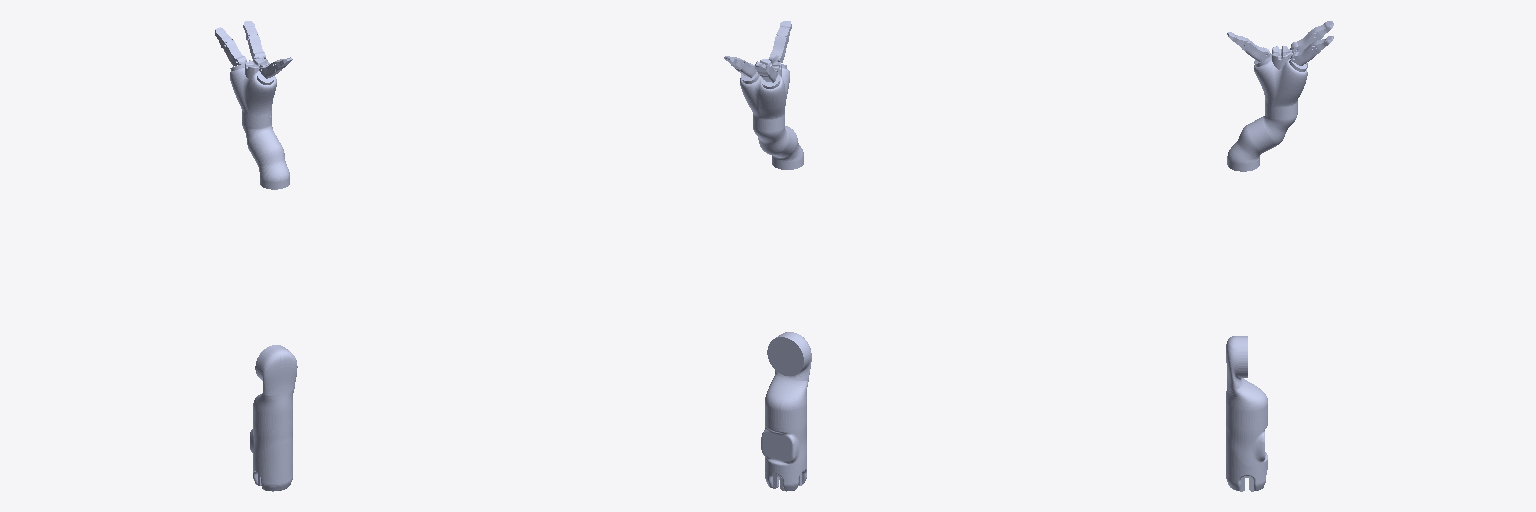
URDF robot description (m1n6s300):
<?xml version="1.0" ?>
<!-- =================================================================================== -->
<!-- |    This document was autogenerated by xacro from m1n6s300_standalone.xacro      | -->
<!-- |    EDITING THIS FILE BY HAND IS NOT RECOMMENDED                                 | -->
<!-- =================================================================================== -->
<!-- m1n6_2 refers to mico v1 6DOF non-spherical 2fingers -->
<robot name="m1n6s300" xmlns:body="http://playerstage.sourceforge.net/gazebo/xmlschema/#body" xmlns:controller="http://playerstage.sourceforge.net/gazebo/xmlschema/#controller" xmlns:gazebo="http://playerstage.sourceforge.net/gazebo/xmlschema/#gz" xmlns:geom="http://playerstage.sourceforge.net/gazebo/xmlschema/#geom" xmlns:interface="http://playerstage.sourceforge.net/gazebo/xmlschema/#interface" xmlns:joint="http://playerstage.sourceforge.net/gazebo/xmlschema/#joint" xmlns:model="http://playerstage.sourceforge.net/gazebo/xmlschema/#model" xmlns:physics="http://playerstage.sourceforge.net/gazebo/xmlschema/#physics" xmlns:renderable="http://playerstage.sourceforge.net/gazebo/xmlschema/#renderable" xmlns:rendering="http://playerstage.sourceforge.net/gazebo/xmlschema/#rendering" xmlns:sensor="http://playerstage.sourceforge.net/gazebo/xmlschema/#sensor" xmlns:xacro="http://ros.org/wiki/xacro" xmlns:xi="http://www.w3.org/2001/XInclude">
  <!-- links      		mesh_no
   base           		0
   shoulder       		1
   arm            		2
   forearm        		3
   wrist          		4
   arm_mico       		5
   arm_half1 (7dof)		6
   arm_half2 (7dof)		7
   wrist_spherical_1  8
   wrist_spherical_2  9

   hand 3 finger  		55
   hand_2finger   		56
   finger_proximal		57
   finger_distal      58 
-->
  <!-- links      		mesh_no
   base           		0
   shoulder       		1
   arm            		2
   forearm        		3
   wrist          		4
   arm_mico       		5
   arm_half1 (7dof)		6
   arm_half2 (7dof)		7
   wrist_spherical_1  8
   wrist_spherical_2  9

   hand 3 finger  		55
   hand_2finger   		56
   finger_proximal		57
   finger_distal      58 
-->
  <link name="root">
    <visual>
      <origin rpy="0 0 0" xyz="0 0 0"/>
      <geometry>
        <box size="0 0 0"/>
      </geometry>
      <!--<material name="Black" /> -->
    </visual>
    <collision>
      <origin rpy="0 0 0" xyz="0 0 0"/>
      <geometry>
        <box size="0 0 0"/>
      </geometry>
    </collision>
  </link>
  <!-- for gazebo -->
  <link name="world"/>
  <joint name="connect_root_and_world" type="fixed">
    <child link="root"/>
    <parent link="world"/>
    <origin rpy="0 0 0" xyz="0 0 0"/>
  </joint>
  <!-- ros_control plugin -->
  <gazebo>
    <plugin filename="libgazebo_ros_control.so" name="gazebo_ros_control">
      <robotNamespace>m1n6s300</robotNamespace>
      <robotSimType>gazebo_ros_control/DefaultRobotHWSim</robotSimType>
    </plugin>
  </gazebo>
  <link name="m1n6s300_link_base">
    <visual>
      <geometry>
        <mesh filename="package://kinova_description/meshes/base.dae"/>
      </geometry>
      <material name="carbon_fiber">
        <color rgba="0.792156862745098 0.819607843137255 0.933333333333333 1"/>
      </material>
    </visual>
    <collision>
      <geometry>
        <mesh filename="package://kinova_description/meshes/base.dae"/>
      </geometry>
    </collision>
    <inertial>
      <mass value="0.46784"/>
      <origin rpy="0 0 0" xyz="0 0 0.1255"/>
      <inertia ixx="0.000951270861568" ixy="0" ixz="0" iyy="0.000951270861568" iyz="0" izz="0.000374272"/>
    </inertial>
  </link>
  <joint name="m1n6s300_joint_base" type="fixed">
    <parent link="root"/>
    <child link="m1n6s300_link_base"/>
    <axis xyz="0 0 0"/>
    <limit effort="2000" lower="0" upper="0" velocity="1"/>
    <origin rpy="0 0 0" xyz="0 0 0"/>
    <dynamics damping="0.0" friction="0.0"/>
  </joint>
  <link name="m1n6s300_link_1">
    <visual>
      <geometry>
        <mesh filename="package://kinova_description/meshes/shoulder.dae"/>
      </geometry>
      <material name="carbon_fiber">
        <color rgba="0.792156862745098 0.819607843137255 0.933333333333333 1"/>
      </material>
    </visual>
    <visual>
      <geometry>
        <mesh filename="package://kinova_description/meshes/ring_big.STL"/>
      </geometry>
    </visual>
    <collision>
      <geometry>
        <mesh filename="package://kinova_description/meshes/shoulder.dae"/>
      </geometry>
    </collision>
    <inertial>
      <mass value="0.7477"/>
      <origin xyz="0 -0.002 -0.0605"/>
      <inertia ixx="0.00152031725204" ixy="0" ixz="0" iyy="0.00152031725204" iyz="0" izz="0.00059816"/>
    </inertial>
  </link>
  <joint name="m1n6s300_joint_1" type="continuous">
    <parent link="m1n6s300_link_base"/>
    <child link="m1n6s300_link_1"/>
    <axis xyz="0 0 1"/>
    <limit effort="2000" lower="-6.28318530718" upper="6.28318530718" velocity="1"/>
    <origin rpy="0 3.14159265359 0" xyz="0 0 0.15675"/>
    <dynamics damping="0.0" friction="0.0"/>
  </joint>
  <transmission name="m1n6s300_joint_1_trans">
    <type>transmission_interface/SimpleTransmission</type>
    <joint name="m1n6s300_joint_1">
      <hardwareInterface>EffortJointInterface</hardwareInterface>
    </joint>
    <actuator name="m1n6s300_joint_1_actuator">
      <hardwareInterface>EffortJointInterface</hardwareInterface>
      <mechanicalReduction>160</mechanicalReduction>
    </actuator>
  </transmission>
  <link name="m1n6s300_link_2">
    <visual>
      <geometry>
        <mesh filename="package://kinova_description/meshes/arm_mico.dae"/>
      </geometry>
      <material name="carbon_fiber">
        <color rgba="0.792156862745098 0.819607843137255 0.933333333333333 1"/>
      </material>
    </visual>
    <visual>
      <geometry>
        <mesh filename="package://kinova_description/meshes/ring_big.STL"/>
      </geometry>
    </visual>
    <collision>
      <geometry>
        <mesh filename="package://kinova_description/meshes/arm_mico.dae"/>
      </geometry>
    </collision>
    <inertial>
      <mass value="0.85968"/>
      <origin xyz="0 -0.145  -0.0076"/>
      <inertia ixx="0.00467090931629" ixy="0" ixz="0" iyy="0.000386856" iyz="0" izz="0.00467090931629"/>
    </inertial>
  </link>
  <joint name="m1n6s300_joint_2" type="revolute">
    <parent link="m1n6s300_link_1"/>
    <child link="m1n6s300_link_2"/>
    <axis xyz="0 0 1"/>
    <limit effort="2000" lower="0.872664625997" upper="5.41052068118" velocity="1"/>
    <origin rpy="-1.57079632679 0 3.14159265359" xyz="0 0.0016 -0.11875"/>
    <dynamics damping="0.0" friction="0.0"/>
  </joint>
  <transmission name="m1n6s300_joint_2_trans">
    <type>transmission_interface/SimpleTransmission</type>
    <joint name="m1n6s300_joint_2">
      <hardwareInterface>EffortJointInterface</hardwareInterface>
    </joint>
    <actuator name="m1n6s300_joint_2_actuator">
      <hardwareInterface>EffortJointInterface</hardwareInterface>
      <mechanicalReduction>160</mechanicalReduction>
    </actuator>
  </transmission>
  <link name="m1n6s300_link_3">
    <visual>
      <geometry>
        <mesh filename="package://kinova_description/meshes/forearm_mico.dae"/>
      </geometry>
      <material name="carbon_fiber">
        <color rgba="0.792156862745098 0.819607843137255 0.933333333333333 1"/>
      </material>
    </visual>
    <visual>
      <geometry>
        <mesh filename="package://kinova_description/meshes/ring_big.STL"/>
      </geometry>
    </visual>
    <collision>
      <geometry>
        <mesh filename="package://kinova_description/meshes/forearm_mico.dae"/>
      </geometry>
    </collision>
    <inertial>
      <mass value="0.606"/>
      <origin xyz="0 0.0463 -0.0065"/>
      <inertia ixx="0.0003837984648" ixy="0" ixz="0" iyy="0.0001212" iyz="0" izz="0.0003837984648"/>
    </inertial>
  </link>
  <joint name="m1n6s300_joint_3" type="revolute">
    <parent link="m1n6s300_link_2"/>
    <child link="m1n6s300_link_3"/>
    <axis xyz="0 0 1"/>
    <limit effort="2000" lower="0.610865238198" upper="5.67232006898" velocity="1"/>
    <origin rpy="0 3.14159265359 0" xyz="0 -0.290 0"/>
    <dynamics damping="0.0" friction="0.0"/>
  </joint>
  <transmission name="m1n6s300_joint_3_trans">
    <type>transmission_interface/SimpleTransmission</type>
    <joint name="m1n6s300_joint_3">
      <hardwareInterface>EffortJointInterface</hardwareInterface>
    </joint>
    <actuator name="m1n6s300_joint_3_actuator">
      <hardwareInterface>EffortJointInterface</hardwareInterface>
      <mechanicalReduction>160</mechanicalReduction>
    </actuator>
  </transmission>
  <link name="m1n6s300_link_4">
    <visual>
      <geometry>
        <mesh filename="package://kinova_description/meshes/wrist.dae"/>
      </geometry>
      <material name="carbon_fiber">
        <color rgba="0.792156862745098 0.819607843137255 0.933333333333333 1"/>
      </material>
    </visual>
    <visual>
      <geometry>
        <mesh filename="package://kinova_description/meshes/ring_small.STL"/>
      </geometry>
    </visual>
    <collision>
      <geometry>
        <mesh filename="package://kinova_description/meshes/wrist.dae"/>
      </geometry>
    </collision>
    <inertial>
      <mass value="0.426367"/>
      <origin xyz="0 -0.037 -0.0642"/>
      <inertia ixx="7.73496906e-05" ixy="0" ixz="0" iyy="7.73496906e-05" iyz="0" izz="0.0001428"/>
    </inertial>
  </link>
  <joint name="m1n6s300_joint_4" type="continuous">
    <parent link="m1n6s300_link_3"/>
    <child link="m1n6s300_link_4"/>
    <axis xyz="0 0 1"/>
    <limit effort="2000" lower="-6.28318530718" upper="6.28318530718" velocity="1"/>
    <origin rpy="-1.57079632679 0 3.14159265359" xyz="0 0.1231 -0.0086"/>
    <dynamics damping="0.0" friction="0.0"/>
  </joint>
  <transmission name="m1n6s300_joint_4_trans">
    <type>transmission_interface/SimpleTransmission</type>
    <joint name="m1n6s300_joint_4">
      <hardwareInterface>EffortJointInterface</hardwareInterface>
    </joint>
    <actuator name="m1n6s300_joint_4_actuator">
      <hardwareInterface>EffortJointInterface</hardwareInterface>
      <mechanicalReduction>160</mechanicalReduction>
    </actuator>
  </transmission>
  <link name="m1n6s300_link_5">
    <visual>
      <geometry>
        <mesh filename="package://kinova_description/meshes/wrist.dae"/>
      </geometry>
      <material name="carbon_fiber">
        <color rgba="0.792156862745098 0.819607843137255 0.933333333333333 1"/>
      </material>
    </visual>
    <visual>
      <geometry>
        <mesh filename="package://kinova_description/meshes/ring_small.STL"/>
      </geometry>
    </visual>
    <collision>
      <geometry>
        <mesh filename="package://kinova_description/meshes/wrist.dae"/>
      </geometry>
    </collision>
    <inertial>
      <mass value="0.426367"/>
      <origin xyz="0 -0.037 -0.0642"/>
      <inertia ixx="7.73496906e-05" ixy="0" ixz="0" iyy="7.73496906e-05" iyz="0" izz="0.0001428"/>
    </inertial>
  </link>
  <joint name="m1n6s300_joint_5" type="continuous">
    <parent link="m1n6s300_link_4"/>
    <child link="m1n6s300_link_5"/>
    <axis xyz="0 0 1"/>
    <limit effort="2000" lower="-6.28318530718" upper="6.28318530718" velocity="1"/>
    <origin rpy="1.0471975512 0 3.14159265359" xyz="0 -0.03703 -0.06414"/>
    <dynamics damping="0.0" friction="0.0"/>
  </joint>
  <transmission name="m1n6s300_joint_5_trans">
    <type>transmission_interface/SimpleTransmission</type>
    <joint name="m1n6s300_joint_5">
      <hardwareInterface>EffortJointInterface</hardwareInterface>
    </joint>
    <actuator name="m1n6s300_joint_5_actuator">
      <hardwareInterface>EffortJointInterface</hardwareInterface>
      <mechanicalReduction>160</mechanicalReduction>
    </actuator>
  </transmission>
  <link name="m1n6s300_link_6">
    <visual>
      <geometry>
        <mesh filename="package://kinova_description/meshes/hand_3finger.dae"/>
      </geometry>
      <material name="carbon_fiber">
        <color rgba="0.792156862745098 0.819607843137255 0.933333333333333 1"/>
      </material>
    </visual>
    <visual>
      <geometry>
        <mesh filename="package://kinova_description/meshes/ring_small.STL"/>
      </geometry>
    </visual>
    <collision>
      <geometry>
        <mesh filename="package://kinova_description/meshes/hand_3finger.dae"/>
      </geometry>
    </collision>
    <inertial>
      <mass value="0.99"/>
      <origin xyz="0 0 -0.06"/>
      <inertia ixx="0.0003453236187" ixy="0" ixz="0" iyy="0.0003453236187" iyz="0" izz="0.0005816"/>
    </inertial>
  </link>
  <joint name="m1n6s300_joint_6" type="continuous">
    <parent link="m1n6s300_link_5"/>
    <child link="m1n6s300_link_6"/>
    <axis xyz="0 0 1"/>
    <limit effort="2000" lower="-6.28318530718" upper="6.28318530718" velocity="1"/>
    <origin rpy="1.0471975512 0 3.14159265359" xyz="0 -0.03703 -0.06414"/>
    <dynamics damping="0.0" friction="0.0"/>
  </joint>
  <transmission name="m1n6s300_joint_6_trans">
    <type>transmission_interface/SimpleTransmission</type>
    <joint name="m1n6s300_joint_6">
      <hardwareInterface>EffortJointInterface</hardwareInterface>
    </joint>
    <actuator name="m1n6s300_joint_6_actuator">
      <hardwareInterface>EffortJointInterface</hardwareInterface>
      <mechanicalReduction>160</mechanicalReduction>
    </actuator>
  </transmission>
  <link name="m1n6s300_end_effector">
    <visual>
      <geometry>
        <box size="0 0 0"/>
      </geometry>
    </visual>
    <collision>
      <geometry>
        <box size="0 0 0"/>
      </geometry>
    </collision>
  </link>
  <joint name="m1n6s300_joint_end_effector" type="fixed">
    <parent link="m1n6s300_link_6"/>
    <child link="m1n6s300_end_effector"/>
    <axis xyz="0 0 0"/>
    <limit effort="2000" lower="0" upper="0" velocity="1"/>
    <origin rpy="3.14159265359 0 1.57079632679" xyz="0 0 -0.1600"/>
  </joint>
  <link name="m1n6s300_link_finger_1">
    <visual>
      <geometry>
        <mesh filename="package://kinova_description/meshes/finger_proximal.dae"/>
      </geometry>
      <material name="carbon_fiber">
        <color rgba="0.792156862745098 0.819607843137255 0.933333333333333 1"/>
      </material>
    </visual>
    <collision>
      <geometry>
        <mesh filename="package://kinova_description/meshes/finger_proximal.dae"/>
      </geometry>
    </collision>
    <inertial>
      <mass value="0.01"/>
      <origin xyz="0.022 0 0"/>
      <inertia ixx="7.8999684e-07" ixy="0" ixz="0" iyy="7.8999684e-07" iyz="0" izz="8e-08"/>
    </inertial>
  </link>
  <joint name="m1n6s300_joint_finger_1" type="revolute">
    <parent link="m1n6s300_link_6"/>
    <child link="m1n6s300_link_finger_1"/>
    <axis xyz="0 0 1"/>
    <origin rpy="-1.570796327 .649262481663582 1.35961148639407" xyz="0.00279 0.03126 -0.11467"/>
    <limit effort="2000" lower="0" upper="2" velocity="1"/>
  </joint>
  <transmission name="m1n6s300_joint_finger_1_trans">
    <type>transmission_interface/SimpleTransmission</type>
    <joint name="m1n6s300_joint_finger_1">
      <hardwareInterface>EffortJointInterface</hardwareInterface>
    </joint>
    <actuator name="m1n6s300_joint_finger_1_actuator">
      <hardwareInterface>EffortJointInterface</hardwareInterface>
      <mechanicalReduction>1</mechanicalReduction>
    </actuator>
  </transmission>
  <link name="m1n6s300_link_finger_tip_1">
    <visual>
      <geometry>
        <mesh filename="package://kinova_description/meshes/finger_distal.dae"/>
      </geometry>
      <material name="carbon_fiber">
        <color rgba="0.792156862745098 0.819607843137255 0.933333333333333 1"/>
      </material>
    </visual>
    <collision>
      <geometry>
        <mesh filename="package://kinova_description/meshes/finger_distal.dae"/>
      </geometry>
    </collision>
    <inertial>
      <mass value="0.01"/>
      <origin xyz="0.022 0 0"/>
      <inertia ixx="7.8999684e-07" ixy="0" ixz="0" iyy="7.8999684e-07" iyz="0" izz="8e-08"/>
    </inertial>
  </link>
  <joint name="m1n6s300_joint_finger_tip_1" type="fixed">
    <parent link="m1n6s300_link_finger_1"/>
    <child link="m1n6s300_link_finger_tip_1"/>
    <axis xyz="0 0 1"/>
    <origin rpy="0 0 0" xyz="0.044 -0.003 0"/>
    <limit effort="2000" lower="0" upper="2" velocity="1"/>
  </joint>
  <link name="m1n6s300_link_finger_2">
    <visual>
      <geometry>
        <mesh filename="package://kinova_description/meshes/finger_proximal.dae"/>
      </geometry>
      <material name="carbon_fiber">
        <color rgba="0.792156862745098 0.819607843137255 0.933333333333333 1"/>
      </material>
    </visual>
    <collision>
      <geometry>
        <mesh filename="package://kinova_description/meshes/finger_proximal.dae"/>
      </geometry>
    </collision>
    <inertial>
      <mass value="0.01"/>
      <origin xyz="0.022 0 0"/>
      <inertia ixx="7.8999684e-07" ixy="0" ixz="0" iyy="7.8999684e-07" iyz="0" izz="8e-08"/>
    </inertial>
  </link>
  <joint name="m1n6s300_joint_finger_2" type="revolute">
    <parent link="m1n6s300_link_6"/>
    <child link="m1n6s300_link_finger_2"/>
    <axis xyz="0 0 1"/>
    <origin rpy="-1.570796327 .649262481663582 -1.38614049188413" xyz="0.02226 -0.02707 -0.11482"/>
    <limit effort="2000" lower="0" upper="2" velocity="1"/>
  </joint>
  <transmission name="m1n6s300_joint_finger_2_trans">
    <type>transmission_interface/SimpleTransmission</type>
    <joint name="m1n6s300_joint_finger_2">
      <hardwareInterface>EffortJointInterface</hardwareInterface>
    </joint>
    <actuator name="m1n6s300_joint_finger_2_actuator">
      <hardwareInterface>EffortJointInterface</hardwareInterface>
      <mechanicalReduction>1</mechanicalReduction>
    </actuator>
  </transmission>
  <link name="m1n6s300_link_finger_tip_2">
    <visual>
      <geometry>
        <mesh filename="package://kinova_description/meshes/finger_distal.dae"/>
      </geometry>
      <material name="carbon_fiber">
        <color rgba="0.792156862745098 0.819607843137255 0.933333333333333 1"/>
      </material>
    </visual>
    <collision>
      <geometry>
        <mesh filename="package://kinova_description/meshes/finger_distal.dae"/>
      </geometry>
    </collision>
    <inertial>
      <mass value="0.01"/>
      <origin xyz="0.022 0 0"/>
      <inertia ixx="7.8999684e-07" ixy="0" ixz="0" iyy="7.8999684e-07" iyz="0" izz="8e-08"/>
    </inertial>
  </link>
  <joint name="m1n6s300_joint_finger_tip_2" type="fixed">
    <parent link="m1n6s300_link_finger_2"/>
    <child link="m1n6s300_link_finger_tip_2"/>
    <axis xyz="0 0 1"/>
    <origin rpy="0 0 0" xyz="0.044 -0.003 0"/>
    <limit effort="2000" lower="0" upper="2" velocity="1"/>
  </joint>
  <link name="m1n6s300_link_finger_3">
    <visual>
      <geometry>
        <mesh filename="package://kinova_description/meshes/finger_proximal.dae"/>
      </geometry>
      <material name="carbon_fiber">
        <color rgba="0.792156862745098 0.819607843137255 0.933333333333333 1"/>
      </material>
    </visual>
    <collision>
      <geometry>
        <mesh filename="package://kinova_description/meshes/finger_proximal.dae"/>
      </geometry>
    </collision>
    <inertial>
      <mass value="0.01"/>
      <origin xyz="0.022 0 0"/>
      <inertia ixx="7.8999684e-07" ixy="0" ixz="0" iyy="7.8999684e-07" iyz="0" izz="8e-08"/>
    </inertial>
  </link>
  <joint name="m1n6s300_joint_finger_3" type="revolute">
    <parent link="m1n6s300_link_6"/>
    <child link="m1n6s300_link_finger_3"/>
    <axis xyz="0 0 1"/>
    <origin rpy="-1.570796327 .649262481663582 -1.75545216211587" xyz="-0.02226 -0.02707 -0.11482"/>
    <limit effort="2000" lower="0" upper="2" velocity="1"/>
  </joint>
  <transmission name="m1n6s300_joint_finger_3_trans">
    <type>transmission_interface/SimpleTransmission</type>
    <joint name="m1n6s300_joint_finger_3">
      <hardwareInterface>EffortJointInterface</hardwareInterface>
    </joint>
    <actuator name="m1n6s300_joint_finger_3_actuator">
      <hardwareInterface>EffortJointInterface</hardwareInterface>
      <mechanicalReduction>1</mechanicalReduction>
    </actuator>
  </transmission>
  <link name="m1n6s300_link_finger_tip_3">
    <visual>
      <geometry>
        <mesh filename="package://kinova_description/meshes/finger_distal.dae"/>
      </geometry>
      <material name="carbon_fiber">
        <color rgba="0.792156862745098 0.819607843137255 0.933333333333333 1"/>
      </material>
    </visual>
    <collision>
      <geometry>
        <mesh filename="package://kinova_description/meshes/finger_distal.dae"/>
      </geometry>
    </collision>
    <inertial>
      <mass value="0.01"/>
      <origin xyz="0.022 0 0"/>
      <inertia ixx="7.8999684e-07" ixy="0" ixz="0" iyy="7.8999684e-07" iyz="0" izz="8e-08"/>
    </inertial>
  </link>
  <joint name="m1n6s300_joint_finger_tip_3" type="fixed">
    <parent link="m1n6s300_link_finger_3"/>
    <child link="m1n6s300_link_finger_tip_3"/>
    <axis xyz="0 0 1"/>
    <origin rpy="0 0 0" xyz="0.044 -0.003 0"/>
    <limit effort="2000" lower="0" upper="2" velocity="1"/>
  </joint>
</robot>

--- Render facts (derived) ---
3 views of the same robot in one strip: view 1: azimuth 30°, elevation 25°; view 2: azimuth 150°, elevation 25°; view 3: azimuth 270°, elevation 25° (orthographic).
Model m1n6s300 with 16 links and 15 joints (5 revolute, 4 continuous, 6 fixed), rooted at world, posed joints at zero except 2 at the middle of their limits (m1n6s300_joint_2 = 3.14, m1n6s300_joint_3 = 3.14).
Links seen in each view (by area): view 1: m1n6s300_link_1, m1n6s300_link_base, m1n6s300_link_6, m1n6s300_link_4, m1n6s300_link_5; view 2: m1n6s300_link_1, m1n6s300_link_base, m1n6s300_link_6, m1n6s300_link_5, m1n6s300_link_4; view 3: m1n6s300_link_base, m1n6s300_link_6, m1n6s300_link_1, m1n6s300_link_4, m1n6s300_link_5.
Link boxes in pixels (left/top/right/bottom): m1n6s300_link_1: left=253, top=345, right=297, bottom=423; m1n6s300_link_base: left=250, top=417, right=292, bottom=491; m1n6s300_link_6: left=230, top=54, right=276, bottom=119; m1n6s300_link_4: left=252, top=139, right=289, bottom=189; m1n6s300_link_5: left=242, top=115, right=277, bottom=153; m1n6s300_link_1: left=765, top=332, right=811, bottom=419; m1n6s300_link_base: left=761, top=414, right=806, bottom=491; m1n6s300_link_6: left=740, top=55, right=789, bottom=123; m1n6s300_link_5: left=753, top=119, right=792, bottom=155; m1n6s300_link_4: left=772, top=126, right=803, bottom=169; m1n6s300_link_base: left=1226, top=414, right=1267, bottom=491; m1n6s300_link_6: left=1254, top=43, right=1307, bottom=111; m1n6s300_link_1: left=1226, top=336, right=1267, bottom=420; m1n6s300_link_4: left=1227, top=121, right=1269, bottom=171; m1n6s300_link_5: left=1255, top=106, right=1297, bottom=148.
Size in the robot's own frame: 0.0927 by 0.2106 by 0.9793 metres.
Meshes: 10 distinct files referenced, 11 mesh visuals loaded (6 Collada DAE); not drawn: 8 (reference not matched to a file when rendering).